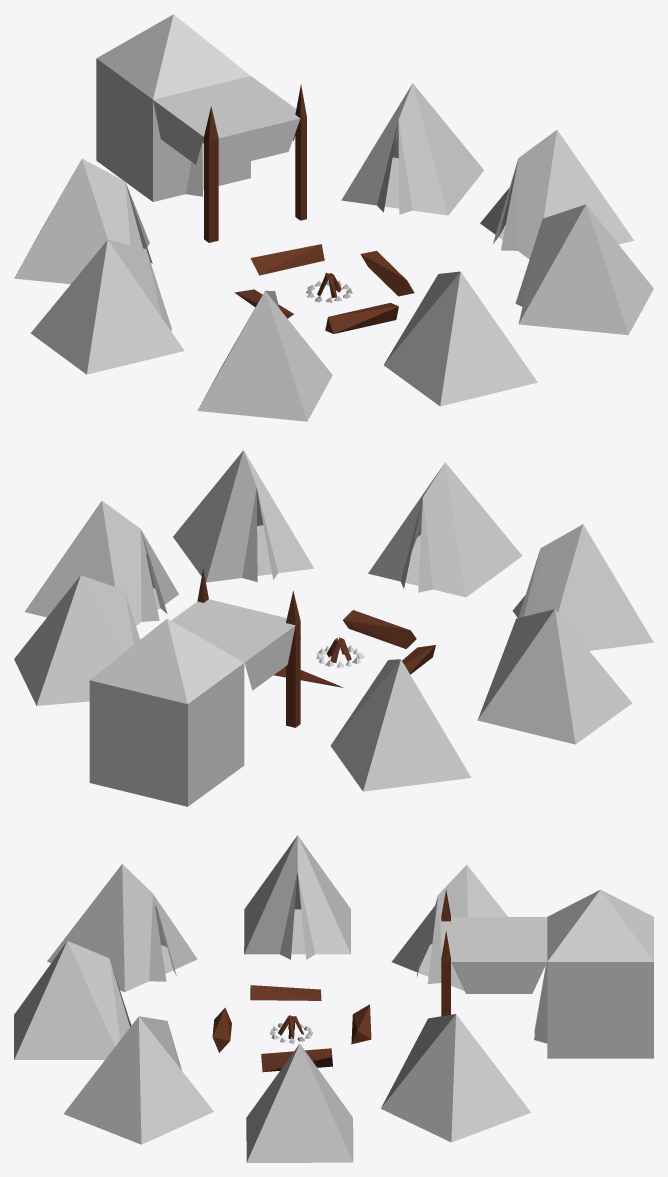
File: Camp.fbx
3 renders of one model, top to bottom at view 1: azimuth 30°, elevation 25°; view 2: azimuth 150°, elevation 25°; view 3: azimuth 270°, elevation 25°, orthographic. The views are drawn at different scales.
Parts seen in each view (by area): view 1: Camp; view 2: Camp; view 3: Camp.
Part boxes in pixels (box(x1,y1,x2,y2)): Camp: box(14, 14, 653, 421); Camp: box(14, 450, 653, 806); Camp: box(14, 835, 653, 1162).
Bounding box in the file's own units: 5.15 × 1.46 × 5.51.
